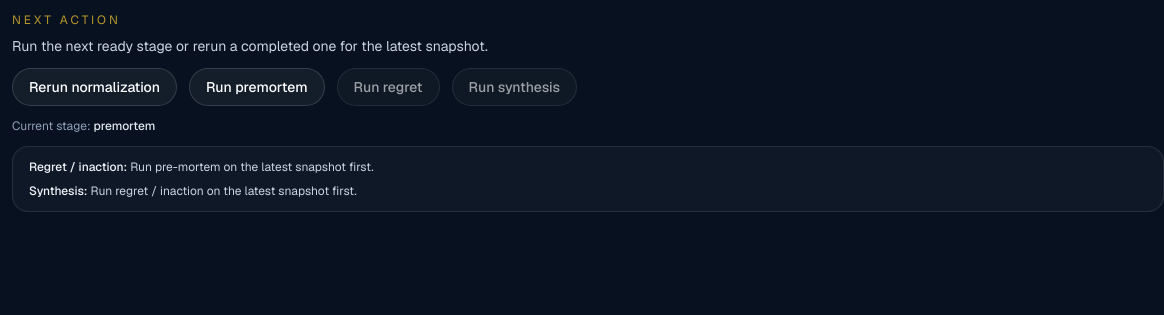
workbench state › keeps failure messaging visible after a failed stage action
The width and height of the screenshot is (1164, 315).
Click the button "Run premortem".
click(257, 87)  # box x1=189 y1=68 x2=325 y2=106
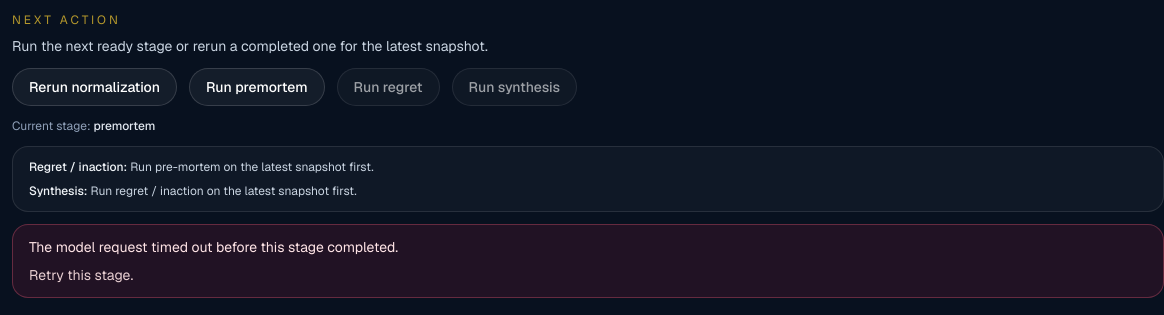
Check: the message shows "The model request timed out before this stage completed.", box x1=29 y1=238 x2=398 y2=256
Check: the text "Retry this stage." is shown, box x1=29 y1=266 x2=133 y2=284
